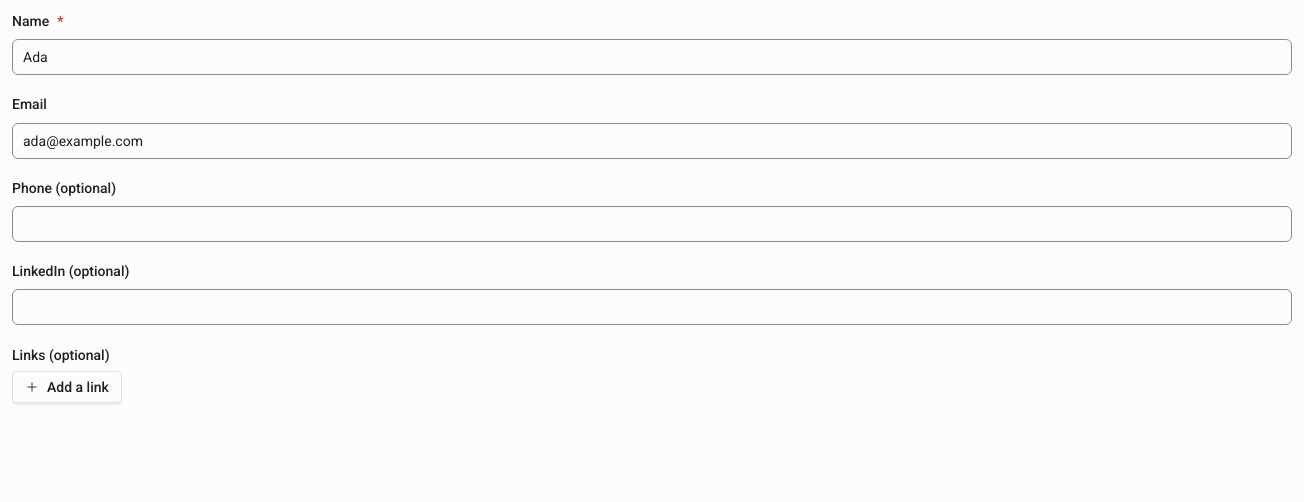
Test: AboutForm › invalid link shows its FieldError
The image size is (1304, 502).
Step 1. Click the button "Add a link" → [67, 387], box x1=12 y1=371 x2=122 y2=403
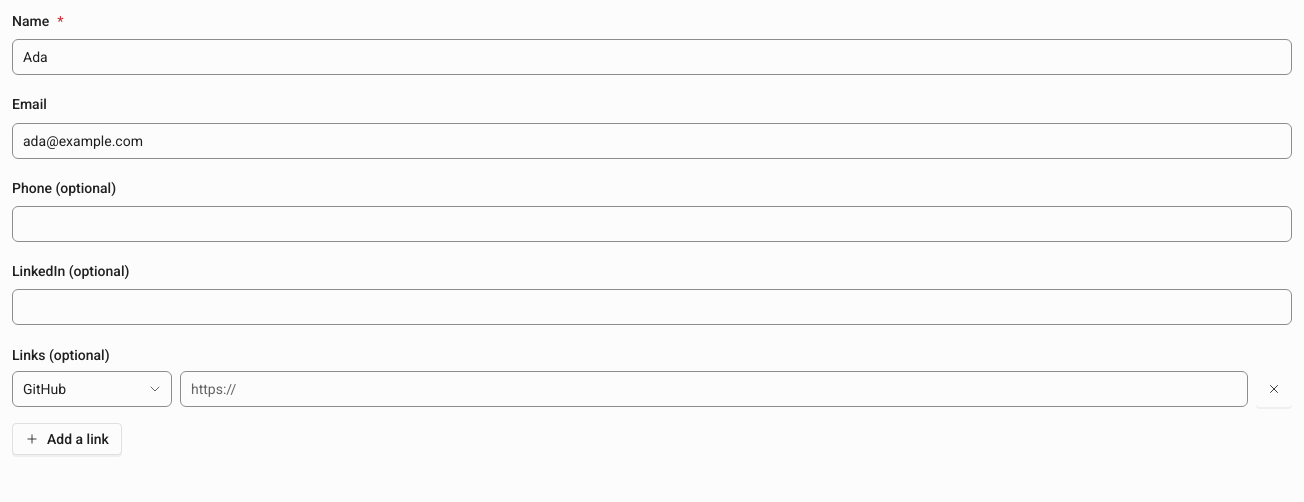
Step 2. Type "github.com/ada" into the field named "Link address" → [714, 389], box x1=180 y1=371 x2=1248 y2=407
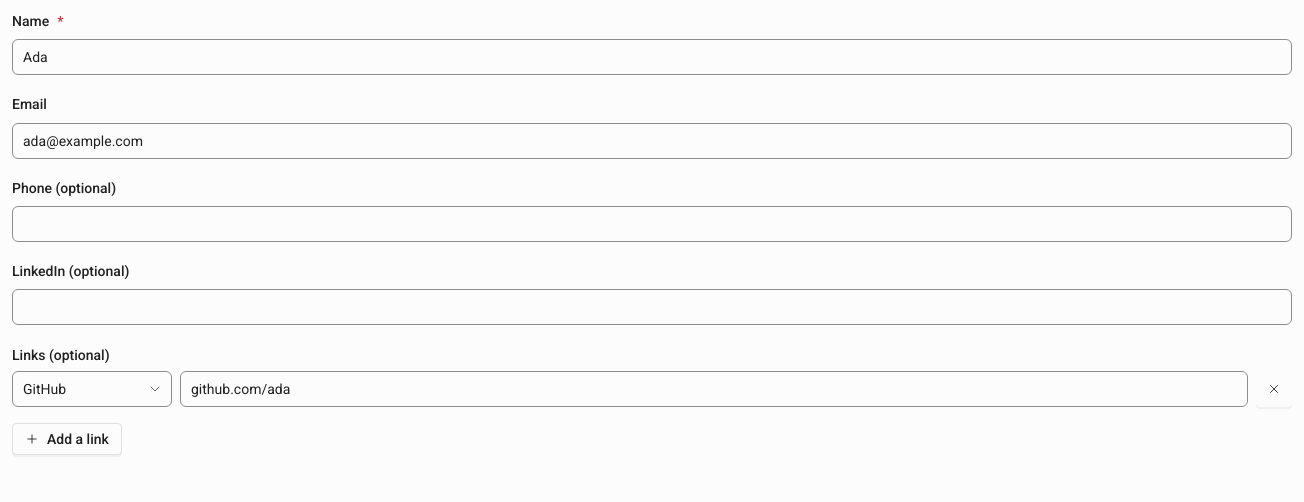
Step 3. Submit the form
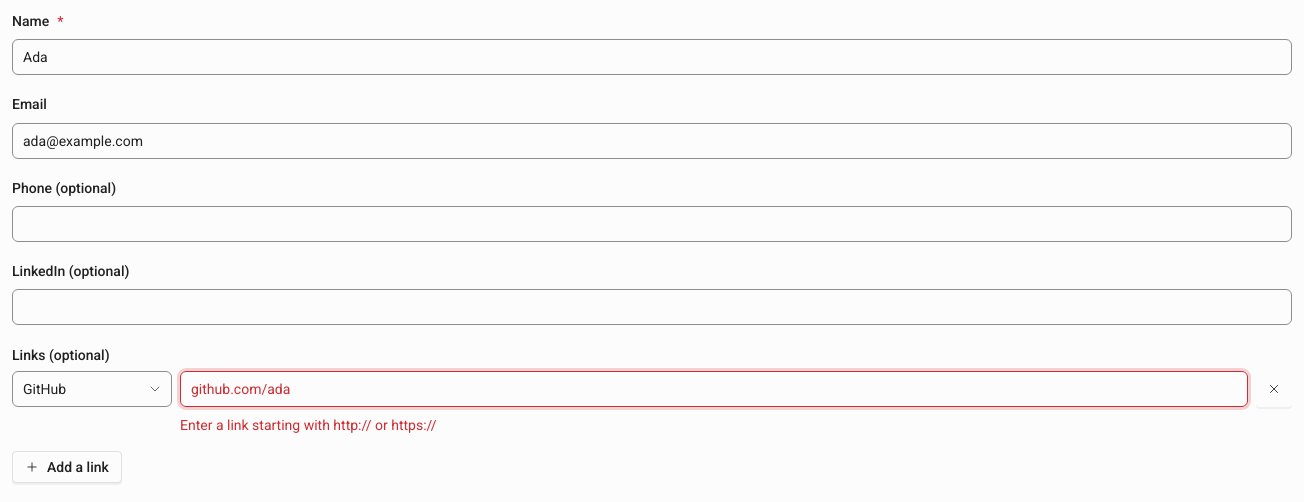
Expected: the text "Enter a link starting with http:// or https://" is shown, x1=180 y1=417 x2=436 y2=433
